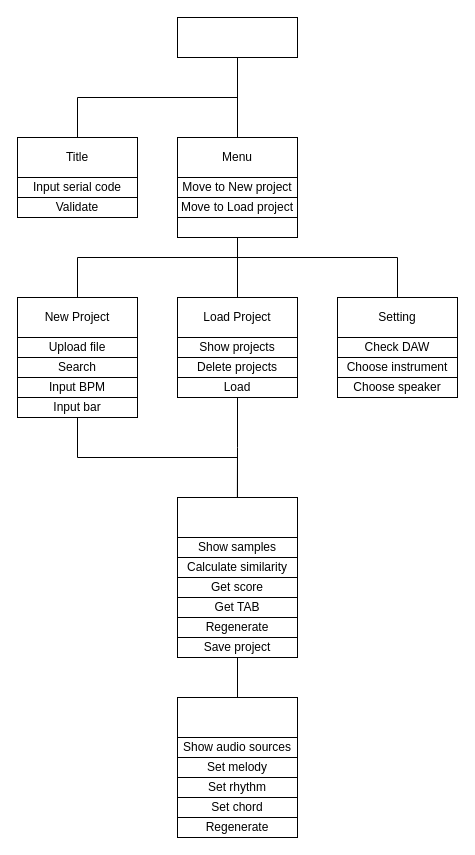
Some shapes in this 475 by 855 pixel diagram are drawn without their labels. The shapes that lost their labels are listed below. From the top down, each one's centre as x and y in pixels, then its label:
the point at 237,37: App
the point at 237,227: Move to Setting
the point at 237,517: Generation
the point at 237,717: Regeneration
